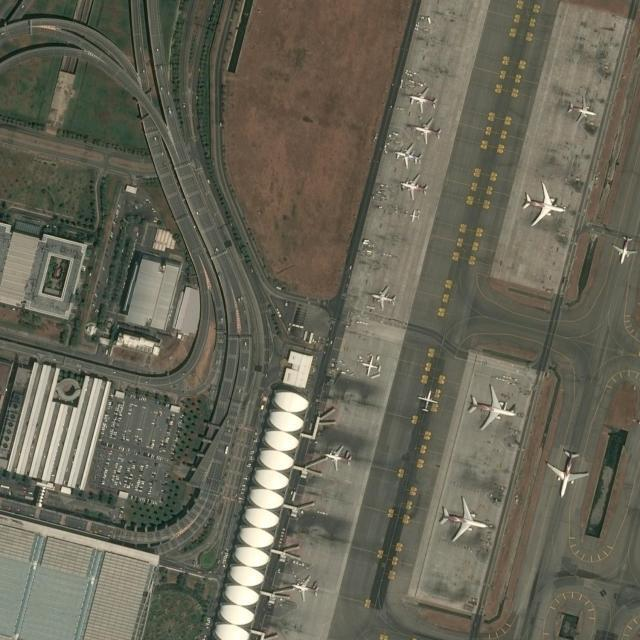Aircraft: (466, 387, 519, 433), (434, 497, 488, 542), (544, 447, 590, 498), (521, 180, 567, 228), (567, 94, 598, 126), (321, 444, 353, 472), (404, 86, 441, 110), (391, 143, 423, 168), (290, 573, 318, 601), (410, 118, 442, 142), (612, 232, 637, 262), (369, 285, 397, 311), (399, 175, 429, 199), (417, 390, 439, 412), (359, 356, 383, 376), (408, 209, 421, 221)
